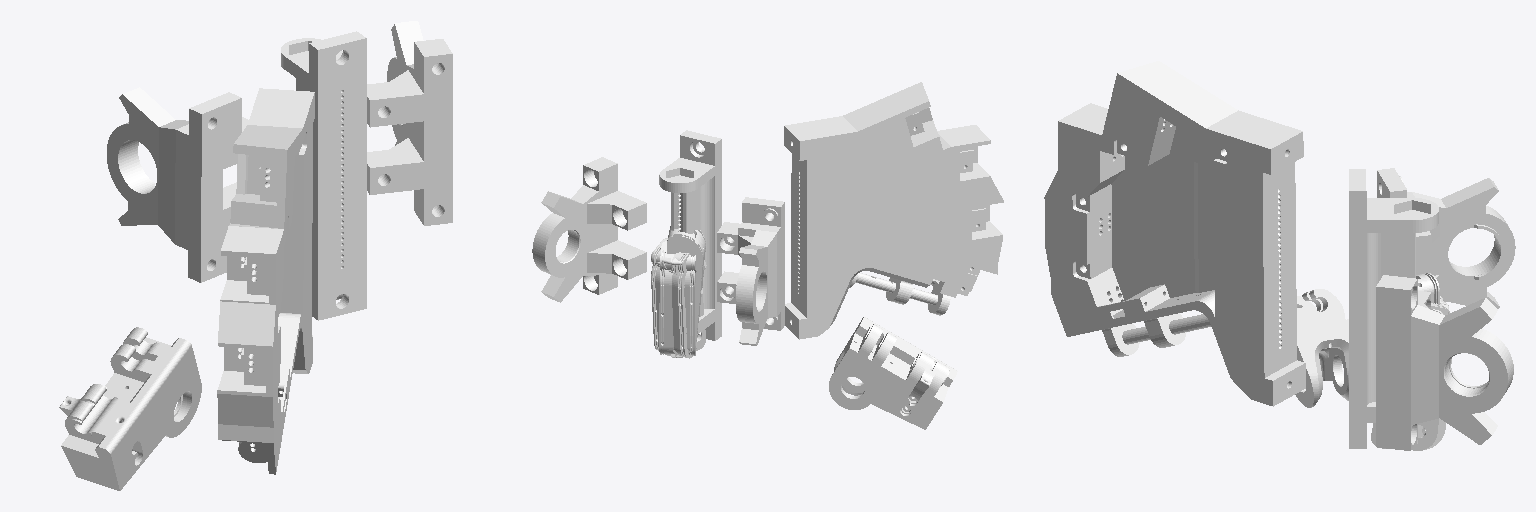
--- What the picture shows (computed from the rendered views, not written in the file) ---
The picture shows the robot from 3 angles, left to right: view 1: azimuth 30°, elevation 25°; view 2: azimuth 150°, elevation 25°; view 3: azimuth 270°, elevation 25°; orthographic projection.
Robot: converted_robot — 99 links, 98 joints (39 revolute, 59 fixed); root link world; default pose: every joint at zero.
Visible links, largest first — view 1: palm, root, thumb_base; view 2: palm, root, thumb_base, index_pp_link, middle_pp_link, thumb_mp; view 3: palm, root, thumb_base.
Boxes of the visible links, x1=… form: palm: x1=217, y1=31, x2=366, y2=474; root: x1=107, y1=21, x2=452, y2=282; thumb_base: x1=59, y1=327, x2=201, y2=490; palm: x1=659, y1=82, x2=1003, y2=340; root: x1=532, y1=157, x2=784, y2=345; thumb_base: x1=829, y1=317, x2=957, y2=429; index_pp_link: x1=659, y1=269, x2=696, y2=357; middle_pp_link: x1=651, y1=266, x2=696, y2=358; thumb_mp: x1=667, y1=226, x2=705, y2=354; palm: x1=1044, y1=61, x2=1438, y2=448; root: x1=1376, y1=168, x2=1515, y2=450; thumb_base: x1=1295, y1=289, x2=1348, y2=407.
Bounding box of the posed robot: 141 × 133 × 111 m (x, y, z).
16 mesh visuals loaded from 14 distinct referenced files (10 binary STL); not drawn: 13 (reference not matched to a file when rendering).

The robot description file, URDF, robot "converted_robot":
<?xml version="1.0" ?>
<robot name="converted_robot">
   <link name="world">
      <inertial>
         <origin xyz="0.0 0.0 0.0" rpy="0.0 0.0 0.0"/>
         <mass value="0.0"/>
         <inertia ixx="0.0" iyy="0.0" izz="0.0" ixy="0" ixz="0" iyz="0"/>
      </inertial>
   </link>
   <link name="root">
      <inertial>
         <origin xyz="0.0022381929403373566 -0.05478397963243803 -0.00015299873054020854" rpy="-1.6682712921179035 -1.5634684420894256 -2.932584540913697"/>
         <mass value="0.5045851090366231"/>
         <inertia ixx="0.001042180022390873" iyy="0.0009363734792854078" izz="0.00030932823926769414" ixy="0" ixz="0" iyz="0"/>
      </inertial>
      <visual name="tower">
         <origin xyz="0.002364865199460947 -0.058011405237253066 -0.00016105648299251585" rpy="-1.6139551293120311 -1.561716121388361 -2.9768437729290564"/>
         <geometry>
            <mesh filename="package://viz/models/biomimic_hand_v3/mesh/Tower_reframed.stl"/>
         </geometry>
         <material name="white"/>
      </visual>
      <visual name="wrist_concept_1">
         <origin xyz="-0.03174380379669124 0.011915712195327334 2.700284945481736e-05" rpy="0.007171625908007462 0.0020408912241414168 0.2470769971928733"/>
         <geometry>
            <mesh filename="package://viz/models/biomimic_hand_v3/mesh/Wrist_concept_actuation_side_reframed.stl"/>
         </geometry>
         <material name="white"/>
      </visual>
      <visual name="wrist_concept_2">
         <origin xyz="0.032245049887780076 0.012156060535640886 1.0565636185675317e-07" rpy="2.043033431406438e-05 4.8627126234546125e-06 -0.2581000401397636"/>
         <geometry>
            <mesh filename="package://viz/models/biomimic_hand_v3/mesh/Wrist_concept_reframed.stl"/>
         </geometry>
         <material name="white"/>
      </visual>
   </link>
   <link name="world2root_fixed_jointbody">
      <inertial>
         <origin xyz="0.0 0.0 0.0" rpy="0.0 0.0 0.0"/>
         <mass value="0.001"/>
         <inertia ixx="1e-09" iyy="1e-09" izz="1e-09" ixy="0" ixz="0" iyz="0"/>
      </inertial>
   </link>
   <joint type="fixed" name="world2root_fixed">
      <parent link="world"/>
      <child link="world2root_fixed_jointbody"/>
      <origin xyz="0.0 0.0 0.0" rpy="0.0 0.0 0.0"/>
   </joint>
   <joint type="fixed" name="world2root_fixed_offset">
      <parent link="world2root_fixed_jointbody"/>
      <child link="root"/>
      <origin xyz="-0.0 -0.0 -0.0" rpy="0.0 0.0 0.0"/>
   </joint>
   <link name="palm">
      <inertial>
         <origin xyz="0.002610045623991939 0.0733741228610985 4.28218316045463e-05" rpy="2.8091086388415176 -1.5658554450899007 -1.17219741236923"/>
         <mass value="0.09616484345900721"/>
         <inertia ixx="0.00011006185476637884" iyy="6.919322101580203e-05" izz="4.3258460744056357e-05" ixy="0" ixz="0" iyz="0"/>
      </inertial>
      <visual name="wrist_counterpart_v2">
         <origin xyz="-0.00023286589265706536 0.03431860304032479 -8.514230674660817e-12" rpy="-3.13718684452829 -1.5707963267948966 0.0"/>
         <geometry>
            <mesh filename="package://viz/models/biomimic_hand_v3/mesh/Wrist_Counterpart_reframed_v2.stl"/>
         </geometry>
         <material name="white"/>
      </visual>
      <visual name="palm_n">
         <origin xyz="0.003298856085237938 0.08283690440192504 5.319715678469291e-05" rpy="-2.414501374296908 -1.5621379725122209 -1.386013583786934"/>
         <geometry>
            <mesh filename="package://viz/models/biomimic_hand_v3/mesh/palm_reframed.stl"/>
         </geometry>
         <material name="white"/>
      </visual>
   </link>
   <link name="root2palm_jointbody">
      <inertial>
         <origin xyz="0.0 0.0 0.0" rpy="0.0 0.0 0.0"/>
         <mass value="0.001"/>
         <inertia ixx="1e-09" iyy="1e-09" izz="1e-09" ixy="0" ixz="0" iyz="0"/>
      </inertial>
   </link>
   <joint type="revolute" name="root2palm">
      <parent link="root"/>
      <child link="root2palm_jointbody"/>
      <origin xyz="0.0 0.026 0.0" rpy="0.0 0.0 0.0"/>
      <axis xyz="1.0 0.0 0.0"/>
      <limit lower="-0.75" upper="0.75" effort="100" velocity="100"/>
   </joint>
   <joint type="fixed" name="root2palm_offset">
      <parent link="root2palm_jointbody"/>
      <child link="palm"/>
      <origin xyz="-0.0 -0.026 -0.0" rpy="0.0 0.0 0.0"/>
   </joint>
   <link name="thumb_base">
      <inertial>
         <origin xyz="-0.03896151638617342 0.08238129367054924 0.0022055098758475555" rpy="-1.4872237942305147 -1.4930754041998728 -2.854555655721934"/>
         <mass value="0.010655348738269323"/>
         <inertia ixx="1.6522325518325598e-06" iyy="1.4630820487504904e-06" izz="6.812925076460425e-07" ixy="0" ixz="0" iyz="0"/>
      </inertial>
      <visual name="thumb_base_n">
         <origin xyz="-0.03896151638617342 0.08238129367054924 0.0022055098758475555" rpy="-1.4872237942305135 -1.4930754041998728 -2.854555655721935"/>
         <geometry>
            <mesh filename="package://viz/models/biomimic_hand_v3/mesh/thumb_base_reframed.stl"/>
         </geometry>
         <material name="white"/>
      </visual>
   </link>
   <link name="root2thumb_base_jointbody">
      <inertial>
         <origin xyz="0.0 0.0 0.0" rpy="0.0 0.0 0.0"/>
         <mass value="0.001"/>
         <inertia ixx="1e-09" iyy="1e-09" izz="1e-09" ixy="0" ixz="0" iyz="0"/>
      </inertial>
   </link>
   <joint type="revolute" name="root2thumb_base">
      <parent link="palm"/>
      <child link="root2thumb_base_jointbody"/>
      <origin xyz="-0.020722 0.066289 0.000509" rpy="0.0 0.0 0.0"/>
      <axis xyz="-0.4226182617388418 0.9063077870375164 0.0"/>
      <limit lower="-3.14" upper="3.14" effort="100" velocity="100"/>
   </joint>
   <joint type="fixed" name="root2thumb_base_offset">
      <parent link="root2thumb_base_jointbody"/>
      <child link="thumb_base"/>
      <origin xyz="0.020722 -0.066289 -0.000509" rpy="0.0 0.0 0.0"/>
   </joint>
   <link name="thumb_pp">
      <inertial>
         <origin xyz="-0.011053892269388146 3.4865384795573415e-05 4.381253094768987e-05" rpy="-2.8886516344078492 -1.5155657546694923 -0.2549822790790299"/>
         <mass value="0.0025689413906266187"/>
         <inertia ixx="1.3413055681871132e-07" iyy="1.285975959688597e-07" izz="5.1445488531337374e-08" ixy="0" ixz="0" iyz="0"/>
      </inertial>
      <visual name="thumb_pp">
         <origin xyz="-0.011053892269388146 3.4865384795573415e-05 4.381253094768987e-05" rpy="-2.8886516344078492 -1.5155657546694923 -0.2549822790790299"/>
         <geometry>
            <mesh filename="package://viz/models/biomimic_hand_v3/mesh/thumb_link2_reframed.stl"/>
         </geometry>
         <material name="white"/>
      </visual>
   </link>
   <link name="thumb_base2pp_jointbody">
      <inertial>
         <origin xyz="0.0 0.0 0.0" rpy="0.0 0.0 0.0"/>
         <mass value="0.001"/>
         <inertia ixx="1e-09" iyy="1e-09" izz="1e-09" ixy="0" ixz="0" iyz="0"/>
      </inertial>
   </link>
   <joint type="revolute" name="thumb_base2pp">
      <parent link="thumb_base"/>
      <child link="thumb_base2pp_jointbody"/>
      <origin xyz="-0.042892 0.068639 0.000509" rpy="0.0 0.0 0.43633200000000005"/>
      <axis xyz="0.0 0.0 1.0"/>
      <limit lower="-0.785398" upper="0.785398" effort="100" velocity="100"/>
   </joint>
   <joint type="fixed" name="thumb_base2pp_offset">
      <parent link="thumb_base2pp_jointbody"/>
      <child link="thumb_pp"/>
      <origin xyz="-0.0 -0.0 -0.0" rpy="0.0 0.0 0.0"/>
   </joint>
   <link name="thumb_mp_virt">
      <inertial>
         <origin xyz="0.0 0.0 0.0" rpy="0.0 0.0 0.0"/>
         <mass value="0.001"/>
         <inertia ixx="4e-10" iyy="4e-10" izz="3e-10" ixy="0" ixz="0" iyz="0"/>
      </inertial>
   </link>
   <link name="thumb_pp2mp_virt_jointbody">
      <inertial>
         <origin xyz="0.0 0.0 0.0" rpy="0.0 0.0 0.0"/>
         <mass value="0.001"/>
         <inertia ixx="1e-09" iyy="1e-09" izz="1e-09" ixy="0" ixz="0" iyz="0"/>
      </inertial>
   </link>
   <joint type="revolute" name="thumb_pp2mp_virt">
      <parent link="thumb_pp"/>
      <child link="thumb_pp2mp_virt_jointbody"/>
      <origin xyz="-0.013 0.0 0.0025" rpy="0.0 0.0 0.0"/>
      <axis xyz="0.0 1.0 0.0"/>
      <limit lower="-3.14" upper="3.14" effort="100" velocity="100"/>
   </joint>
   <joint type="fixed" name="thumb_pp2mp_virt_offset">
      <parent link="thumb_pp2mp_virt_jointbody"/>
      <child link="thumb_mp_virt"/>
      <origin xyz="0.013 -0.0 -0.0025" rpy="0.0 0.0 0.0"/>
   </joint>
   <link name="thumb_mp">
      <inertial>
         <origin xyz="-0.014116018388780974 3.307865455442922e-05 -0.0013385556113386947" rpy="-2.97590650134968 -1.521351344482512 -0.1663615440956121"/>
         <mass value="0.005903648686389138"/>
         <inertia ixx="1.0313996389907128e-06" iyy="1.0081447768950292e-06" izz="1.3600777501334462e-07" ixy="0" ixz="0" iyz="0"/>
      </inertial>
      <visual name="thumb_mp">
         <origin xyz="-0.014116018388780974 3.307865455442922e-05 -0.0013385556113386947" rpy="-2.97590650134968 -1.521351344482512 -0.1663615440956121"/>
         <geometry>
            <mesh filename="package://viz/models/biomimic_hand_v3/mesh/thumb_link_3_reframed.stl"/>
         </geometry>
         <material name="white"/>
      </visual>
   </link>
   <link name="thumb_pp2mp_jointbody">
      <inertial>
         <origin xyz="0.0 0.0 0.0" rpy="0.0 0.0 0.0"/>
         <mass value="0.001"/>
         <inertia ixx="1e-09" iyy="1e-09" izz="1e-09" ixy="0" ixz="0" iyz="0"/>
      </inertial>
   </link>
   <joint type="revolute" name="thumb_pp2mp">
      <parent link="thumb_mp_virt"/>
      <child link="thumb_pp2mp_jointbody"/>
      <origin xyz="-0.031 0.0 0.0025" rpy="0.0 0.0 0.0"/>
      <axis xyz="0.0 1.0 0.0"/>
      <limit lower="-3.14" upper="3.14" effort="100" velocity="100"/>
   </joint>
   <joint type="fixed" name="thumb_pp2mp_offset">
      <parent link="thumb_pp2mp_jointbody"/>
      <child link="thumb_mp"/>
      <origin xyz="-0.0 -0.0 -0.0" rpy="0.0 0.0 0.0"/>
   </joint>
   <link name="thumb_dp_virt">
      <inertial>
         <origin xyz="0.0 0.0 0.0" rpy="0.0 0.0 0.0"/>
         <mass value="0.001"/>
         <inertia ixx="4e-10" iyy="4e-10" izz="3e-10" ixy="0" ixz="0" iyz="0"/>
      </inertial>
   </link>
   <link name="thumb_mp2dp_virt_jointbody">
      <inertial>
         <origin xyz="0.0 0.0 0.0" rpy="0.0 0.0 0.0"/>
         <mass value="0.001"/>
         <inertia ixx="1e-09" iyy="1e-09" izz="1e-09" ixy="0" ixz="0" iyz="0"/>
      </inertial>
   </link>
   <joint type="revolute" name="thumb_mp2dp_virt">
      <parent link="thumb_mp"/>
      <child link="thumb_mp2dp_virt_jointbody"/>
      <origin xyz="-0.031 0.0 0.00225" rpy="0.0 0.0 0.0"/>
      <axis xyz="0.0 -1.0 0.0"/>
      <limit lower="-3.14" upper="3.14" effort="100" velocity="100"/>
   </joint>
   <joint type="fixed" name="thumb_mp2dp_virt_offset">
      <parent link="thumb_mp2dp_virt_jointbody"/>
      <child link="thumb_dp_virt"/>
      <origin xyz="0.031 -0.0 -0.00225" rpy="0.0 0.0 0.0"/>
   </joint>
   <link name="thumb_dp">
      <inertial>
         <origin xyz="0.002640041313834239 -8.033957342976116e-06 0.0037021472303460264" rpy="1.5640958002148797 -1.2122408048608502 0.002963949632654672"/>
         <mass value="0.0008474418579601583"/>
         <inertia ixx="1.9750329826804736e-08" iyy="1.5387806605358783e-08" izz="1.228301033689625e-08" ixy="0" ixz="0" iyz="0"/>
      </inertial>
      <visual name="thumb_tip">
         <origin xyz="0.002640041313834239 -8.033957342976116e-06 0.0037021472303460264" rpy="1.5640958002148793 -1.2122408048608502 0.002963949632654894"/>
         <geometry>
            <mesh filename="package://viz/models/biomimic_hand_v3/mesh/thumb_tip.stl"/>
         </geometry>
         <material name="white"/>
      </visual>
   </link>
   <link name="thumb_mp2dp_jointbody">
      <inertial>
         <origin xyz="0.0 0.0 0.0" rpy="0.0 0.0 0.0"/>
         <mass value="0.001"/>
         <inertia ixx="1e-09" iyy="1e-09" izz="1e-09" ixy="0" ixz="0" iyz="0"/>
      </inertial>
   </link>
   <joint type="revolute" name="thumb_mp2dp">
      <parent link="thumb_dp_virt"/>
      <child link="thumb_mp2dp_jointbody"/>
      <origin xyz="-0.04649999998923062 0.0 0.001499999983845931" rpy="3.141592653589793 3.589793129421537e-09 3.141592653589793"/>
      <axis xyz="0.0 -1.0 0.0"/>
      <limit lower="-3.14" upper="3.14" effort="100" velocity="100"/>
   </joint>
   <joint type="fixed" name="thumb_mp2dp_offset">
      <parent link="thumb_mp2dp_jointbody"/>
      <child link="thumb_dp"/>
      <origin xyz="-0.0045 -0.0 -0.003" rpy="0.0 0.0 0.0"/>
   </joint>
   <link name="thumb_fingertip">
      <inertial>
         <origin xyz="0.0 0.0 0.01" rpy="0.0 0.0 0.0"/>
         <mass value="0.0"/>
         <inertia ixx="0.0" iyy="0.0" izz="0.0" ixy="0" ixz="0" iyz="0"/>
      </inertial>
   </link>
   <link name="thumb_dp2thumb_fingertip_fixed_jointbody">
      <inertial>
         <origin xyz="0.0 0.0 0.0" rpy="0.0 0.0 0.0"/>
         <mass value="0.001"/>
         <inertia ixx="1e-09" iyy="1e-09" izz="1e-09" ixy="0" ixz="0" iyz="0"/>
      </inertial>
   </link>
   <joint type="fixed" name="thumb_dp2thumb_fingertip_fixed">
      <parent link="thumb_dp"/>
      <child link="thumb_dp2thumb_fingertip_fixed_jointbody"/>
      <origin xyz="0.0 0.0 0.01" rpy="0.0 0.0 0.0"/>
   </joint>
   <joint type="fixed" name="thumb_dp2thumb_fingertip_fixed_offset">
      <parent link="thumb_dp2thumb_fingertip_fixed_jointbody"/>
      <child link="thumb_fingertip"/>
      <origin xyz="-0.0 -0.0 -0.0" rpy="0.0 0.0 0.0"/>
   </joint>
   <link name="index_base">
      <inertial>
         <origin xyz="-2.483271134301712e-06 -0.0006283949403360648 -0.0010218251722954041" rpy="-0.0019606141972857705 0.2848020899002486 1.562843097727972"/>
         <mass value="0.0024272487650793505"/>
         <inertia ixx="1.0995418991633523e-07" iyy="1.0493548698909454e-07" izz="5.695079330067392e-08" ixy="0" ixz="0" iyz="0"/>
      </inertial>
      <visual name="base">
         <origin xyz="-2.483271134301712e-06 -0.0006283949403360648 -0.0010218251722954041" rpy="-0.0019606141972857705 0.2848020899002486 1.562843097727972"/>
         <geometry>
            <mesh filename="package://viz/models/biomimic_hand_v3/mesh/experimental_finger_base_link.stl"/>
         </geometry>
         <material name="white"/>
      </visual>
   </link>
   <link name="palm2index_base_fixed_jointbody">
      <inertial>
         <origin xyz="0.0 0.0 0.0" rpy="0.0 0.0 0.0"/>
         <mass value="0.001"/>
         <inertia ixx="1e-09" iyy="1e-09" izz="1e-09" ixy="0" ixz="0" iyz="0"/>
      </inertial>
   </link>
   <joint type="fixed" name="palm2index_base_fixed">
      <parent link="palm"/>
      <child link="palm2index_base_fixed_jointbody"/>
      <origin xyz="-0.033665 0.121145 -0.001" rpy="1.570799655849771 -1.5517727203206988e-06 -2.705260653592375"/>
   </joint>
   <joint type="fixed" name="palm2index_base_fixed_offset">
      <parent link="palm2index_base_fixed_jointbody"/>
      <child link="index_base"/>
      <origin xyz="-0.0 -0.0 -0.0" rpy="0.0 0.0 0.0"/>
   </joint>
   <link name="index_abduct_link_virt">
      <inertial>
         <origin xyz="0.0 0.0 0.0" rpy="0.0 0.0 0.0"/>
         <mass value="0.001"/>
         <inertia ixx="4e-10" iyy="4e-10" izz="3e-10" ixy="0" ixz="0" iyz="0"/>
      </inertial>
   </link>
   <link name="index_base2adb_virt_jointbody">
      <inertial>
         <origin xyz="0.0 0.0 0.0" rpy="0.0 0.0 0.0"/>
         <mass value="0.001"/>
         <inertia ixx="1e-09" iyy="1e-09" izz="1e-09" ixy="0" ixz="0" iyz="0"/>
      </inertial>
   </link>
   <joint type="revolute" name="index_base2adb_virt">
      <parent link="index_base"/>
      <child link="index_base2adb_virt_jointbody"/>
      <origin xyz="0.0 0.0 0.0" rpy="0.0 0.0 0.0"/>
      <axis xyz="0.0 1.0 0.0"/>
      <limit lower="-3.14" upper="3.14" effort="100" velocity="100"/>
   </joint>
   <joint type="fixed" name="index_base2adb_virt_offset">
      <parent link="index_base2adb_virt_jointbody"/>
      <child link="index_abduct_link_virt"/>
      <origin xyz="-0.0 -0.0 -0.0" rpy="0.0 0.0 0.0"/>
   </joint>
   <link name="index_abduct_link">
      <inertial>
         <origin xyz="0.0030928024469548897 2.9633251576924873e-06 0.002049002293166934" rpy="0.0013444771177570697 -0.39052181680792253 -0.0006183615336743567"/>
         <mass value="0.0013669173022782843"/>
         <inertia ixx="3.537790755823662e-08" iyy="2.974765209083845e-08" izz="2.786437561868119e-08" ixy="0" ixz="0" iyz="0"/>
      </inertial>
      <visual name="abduct_mesh">
         <origin xyz="0.0030928024469548897 2.9633251576924873e-06 0.002049002293166934" rpy="0.0013444771177570697 -0.39052181680792253 -0.0006183615336743567"/>
         <geometry>
            <mesh filename="package://viz/models/biomimic_hand_v3/mesh/experimental_finger_link_2.stl"/>
         </geometry>
         <material name="white"/>
      </visual>
   </link>
   <link name="index_base2adb_jointbody">
      <inertial>
         <origin xyz="0.0 0.0 0.0" rpy="0.0 0.0 0.0"/>
         <mass value="0.001"/>
         <inertia ixx="1e-09" iyy="1e-09" izz="1e-09" ixy="0" ixz="0" iyz="0"/>
      </inertial>
   </link>
   <joint type="revolute" name="index_base2adb">
      <parent link="index_abduct_link_virt"/>
      <child link="index_base2adb_jointbody"/>
      <origin xyz="0.0 0.002498 0.011162" rpy="1.5707963267948966 -1.5707963267948966 0.0"/>
      <axis xyz="0.0 0.0 -1.0"/>
      <limit lower="-3.14" upper="3.14" effort="100" velocity="100"/>
   </joint>
   <joint type="fixed" name="index_base2adb_offset">
      <parent link="index_base2adb_jointbody"/>
      <child link="index_abduct_link"/>
      <origin xyz="-0.0 -0.0 -0.0" rpy="0.0 0.0 0.0"/>
   </joint>
   <link name="index_pp_link_virt">
      <inertial>
         <origin xyz="0.0 0.0 0.0" rpy="0.0 0.0 0.0"/>
         <mass value="0.001"/>
         <inertia ixx="4e-10" iyy="4e-10" izz="3e-10" ixy="0" ixz="0" iyz="0"/>
      </inertial>
   </link>
   <link name="index_adb2pp_virt_jointbody">
      <inertial>
         <origin xyz="0.0 0.0 0.0" rpy="0.0 0.0 0.0"/>
         <mass value="0.001"/>
         <inertia ixx="1e-09" iyy="1e-09" izz="1e-09" ixy="0" ixz="0" iyz="0"/>
      </inertial>
   </link>
   <joint type="revolute" name="index_adb2pp_virt">
      <parent link="index_abduct_link"/>
      <child link="index_adb2pp_virt_jointbody"/>
      <origin xyz="0.0 0.0 0.0" rpy="0.0 0.0 0.0"/>
      <axis xyz="0.0 -1.0 0.0"/>
      <limit lower="-3.14" upper="3.14" effort="100" velocity="100"/>
   </joint>
   <joint type="fixed" name="index_adb2pp_virt_offset">
      <parent link="index_adb2pp_virt_jointbody"/>
      <child link="index_pp_link_virt"/>
      <origin xyz="-0.0 -0.0 -0.0" rpy="0.0 0.0 0.0"/>
   </joint>
   <link name="index_pp_link">
      <inertial>
         <origin xyz="0.019800803261190037 3.0271736921860792e-05 0.0013379390944332293" rpy="2.931599678921431 -1.5138014223874179 0.21266149093854647"/>
         <mass value="0.0050068184060231636"/>
         <inertia ixx="6.345658861803472e-07" iyy="6.154227946796361e-07" izz="1.1409550443849059e-07" ixy="0" ixz="0" iyz="0"/>
      </inertial>
      <visual name="pp_mesh">
         <origin xyz="0.019800803261190037 3.0271736921860792e-05 0.0013379390944332293" rpy="2.9315996789214296 -1.513801422387418 0.21266149093854758"/>
         <geometry>
            <mesh filename="package://viz/models/biomimic_hand_v3/mesh/experimental_finger_pp_link.stl"/>
         </geometry>
         <material name="white"/>
      </visual>
   </link>
   <link name="index_adb2pp_jointbody">
      <inertial>
         <origin xyz="0.0 0.0 0.0" rpy="0.0 0.0 0.0"/>
         <mass value="0.001"/>
         <inertia ixx="1e-09" iyy="1e-09" izz="1e-09" ixy="0" ixz="0" iyz="0"/>
      </inertial>
   </link>
   <joint type="revolute" name="index_adb2pp">
      <parent link="index_pp_link_virt"/>
      <child link="index_adb2pp_jointbody"/>
      <origin xyz="0.008988 0.0 0.0" rpy="0.0 0.0 0.0"/>
      <axis xyz="0.0 -1.0 0.0"/>
      <limit lower="-3.14" upper="3.14" effort="100" velocity="100"/>
   </joint>
   <joint type="fixed" name="index_adb2pp_offset">
      <parent link="index_adb2pp_jointbody"/>
      <child link="index_pp_link"/>
      <origin xyz="-0.0 -0.0 -0.0" rpy="0.0 0.0 0.0"/>
   </joint>
   <link name="index_mp_link_virt">
      <inertial>
         <origin xyz="0.0 0.0 0.0" rpy="0.0 0.0 0.0"/>
         <mass value="0.001"/>
         <inertia ixx="4e-10" iyy="4e-10" izz="3e-10" ixy="0" ixz="0" iyz="0"/>
      </inertial>
   </link>
   <link name="index_pp2mp_virt_jointbody">
      <inertial>
         <origin xyz="0.0 0.0 0.0" rpy="0.0 0.0 0.0"/>
         <mass value="0.001"/>
         <inertia ixx="1e-09" iyy="1e-09" izz="1e-09" ixy="0" ixz="0" iyz="0"/>
      </inertial>
   </link>
   <joint type="revolute" name="index_pp2mp_virt">
      <parent link="index_pp_link"/>
      <child link="index_pp2mp_virt_jointbody"/>
      <origin xyz="0.035 0.0 -0.0016" rpy="0.0 0.0 0.0"/>
      <axis xyz="0.0 -1.0 0.0"/>
      <limit lower="-3.14" upper="3.14" effort="100" velocity="100"/>
   </joint>
   <joint type="fixed" name="index_pp2mp_virt_offset">
      <parent link="index_pp2mp_virt_jointbody"/>
      <child link="index_mp_link_virt"/>
      <origin xyz="-0.035 -0.0 0.0016" rpy="0.0 0.0 0.0"/>
   </joint>
   <link name="index_mp_link">
      <inertial>
         <origin xyz="0.013539877442174646 6.836820127480553e-06 0.00034399519877882553" rpy="-3.0138281282533645 -1.544321997651543 -0.12981250347759032"/>
         <mass value="0.0023988918533060766"/>
         <inertia ixx="1.5737888843947075e-07" iyy="1.3688213582052e-07" izz="4.535302154977501e-08" ixy="0" ixz="0" iyz="0"/>
      </inertial>
      <visual name="mp_mesh">
         <origin xyz="0.013539877442174646 6.836820127480553e-06 0.00034399519877882553" rpy="-3.0138281282533645 -1.544321997651543 -0.12981250347759032"/>
         <geometry>
            <mesh filename="package://viz/models/biomimic_hand_v3/mesh/experimental_finger_mp_link.stl"/>
         </geometry>
         <material name="white"/>
      </visual>
   </link>
   <link name="index_pp2mp_jointbody">
      <inertial>
         <origin xyz="0.0 0.0 0.0" rpy="0.0 0.0 0.0"/>
         <mass value="0.001"/>
         <inertia ixx="1e-09" iyy="1e-09" izz="1e-09" ixy="0" ixz="0" iyz="0"/>
      </inertial>
   </link>
   <joint type="revolute" name="index_pp2mp">
      <parent link="index_mp_link_virt"/>
      <child link="index_pp2mp_jointbody"/>
      <origin xyz="0.047 0.0 -0.0004" rpy="0.0 0.0 0.0"/>
      <axis xyz="0.0 -1.0 0.0"/>
      <limit lower="-3.14" upper="3.14" effort="100" velocity="100"/>
   </joint>
   <joint type="fixed" name="index_pp2mp_offset">
      <parent link="index_pp2mp_jointbody"/>
      <child link="index_mp_link"/>
      <origin xyz="-0.006 -0.0 -0.0" rpy="0.0 0.0 0.0"/>
   </joint>
   <link name="index_dp_adapter_virt">
      <inertial>
         <origin xyz="0.0 0.0 0.0" rpy="0.0 0.0 0.0"/>
         <mass value="0.001"/>
         <inertia ixx="4e-10" iyy="4e-10" izz="3e-10" ixy="0" ixz="0" iyz="0"/>
      </inertial>
   </link>
   <link name="index_mp2dp_virt_jointbody">
      <inertial>
         <origin xyz="0.0 0.0 0.0" rpy="0.0 0.0 0.0"/>
         <mass value="0.001"/>
         <inertia ixx="1e-09" iyy="1e-09" izz="1e-09" ixy="0" ixz="0" iyz="0"/>
      </inertial>
   </link>
   <joint type="revolute" name="index_mp2dp_virt">
      <parent link="index_mp_link"/>
      <child link="index_mp2dp_virt_jointbody"/>
      <origin xyz="0.023 0.0 -0.0008" rpy="0.0 0.0 0.0"/>
      <axis xyz="0.0 -1.0 0.0"/>
      <limit lower="-3.14" upper="3.14" effort="100" velocity="100"/>
   </joint>
   <joint type="fixed" name="index_mp2dp_virt_offset">
      <parent link="index_mp2dp_virt_jointbody"/>
      <child link="index_dp_adapter_virt"/>
      <origin xyz="-0.023 -0.0 0.0008" rpy="0.0 0.0 0.0"/>
   </joint>
   <link name="index_dp_adapter">
      <inertial>
         <origin xyz="0.005351633379461637 5.496078872092513e-06 0.00015893796923586228" rpy="1.5736715159439456 -1.2942765355492698 -0.004465164146717049"/>
         <mass value="0.0006939412579896854"/>
         <inertia ixx="1.5572245841345185e-08" iyy="1.1457796740024819e-08" izz="8.572467342913239e-09" ixy="0" ixz="0" iyz="0"/>
      </inertial>
      <visual name="dp_adapter_mesh">
         <origin xyz="0.005351633379461637 5.496078872092513e-06 0.00015893796923586228" rpy="1.573671515943945 -1.2942765355492696 -0.004465164146716716"/>
         <geometry>
            <mesh filename="package://viz/models/biomimic_hand_v3/mesh/experimental_finger_dp_adapter.stl"/>
         </geometry>
         <material name="white"/>
      </visual>
   </link>
   <link name="index_mp2dp_jointbody">
      <inertial>
         <origin xyz="0.0 0.0 0.0" rpy="0.0 0.0 0.0"/>
         <mass value="0.001"/>
         <inertia ixx="1e-09" iyy="1e-09" izz="1e-09" ixy="0" ixz="0" iyz="0"/>
      </inertial>
   </link>
   <joint type="revolute" name="index_mp2dp">
      <parent link="index_dp_adapter_virt"/>
      <child link="index_mp2dp_jointbody"/>
      <origin xyz="0.032 0.0 -0.0004" rpy="0.0 0.0 0.0"/>
      <axis xyz="0.0 -1.0 0.0"/>
      <limit lower="-3.14" upper="3.14" effort="100" velocity="100"/>
   </joint>
   <joint type="fixed" name="index_mp2dp_offset">
      <parent link="index_mp2dp_jointbody"/>
      <child link="index_dp_adapter"/>
      <origin xyz="-0.0045 -0.0 -0.0" rpy="0.0 0.0 0.0"/>
   </joint>
   <link name="index_fingertip">
      <inertial>
         <origin xyz="0.0 0.0 0.01" rpy="0.0 0.0 0.0"/>
         <mass value="0.0"/>
         <inertia ixx="0.0" iyy="0.0" izz="0.0" ixy="0" ixz="0" iyz="0"/>
      </inertial>
   </link>
   <link name="index_dp_adapter2index_fingertip_fixed_jointbody">
      <inertial>
         <origin xyz="0.0 0.0 0.0" rpy="0.0 0.0 0.0"/>
         <mass value="0.001"/>
         <inertia ixx="1e-09" iyy="1e-09" izz="1e-09" ixy="0" ixz="0" iyz="0"/>
      </inertial>
   </link>
   <joint type="fixed" name="index_dp_adapter2index_fingertip_fixed">
      <parent link="index_dp_adapter"/>
      <child link="index_dp_adapter2index_fingertip_fixed_jointbody"/>
      <origin xyz="0.0 0.0 0.01" rpy="0.0 0.0 0.0"/>
   </joint>
   <joint type="fixed" name="index_dp_adapter2index_fingertip_fixed_offset">
      <parent link="index_dp_adapter2index_fingertip_fixed_jointbody"/>
      <child link="index_fingertip"/>
      <origin xyz="-0.0 -0.0 -0.0" rpy="0.0 0.0 0.0"/>
   </joint>
   <link name="middle_base">
      <inertial>
         <origin xyz="-2.483271134301712e-06 -0.0006283949403360648 -0.0010218251722954041" rpy="-0.0019606141972857705 0.2848020899002486 1.562843097727972"/>
         <mass value="0.0024272487650793505"/>
         <inertia ixx="1.0995418991633523e-07" iyy="1.0493548698909454e-07" izz="5.695079330067392e-08" ixy="0" ixz="0" iyz="0"/>
      </inertial>
      <visual name="base">
         <origin xyz="-2.483271134301712e-06 -0.0006283949403360648 -0.0010218251722954041" rpy="-0.0019606141972857705 0.2848020899002486 1.562843097727972"/>
         <geometry>
            <mesh filename="package://viz/models/biomimic_hand_v3/mesh/experimental_finger_base_link.stl"/>
         </geometry>
         <material name="white"/>
      </visual>
   </link>
   <link name="palm2middle_base_fixed_jointbody">
      <inertial>
         <origin xyz="0.0 0.0 0.0" rpy="0.0 0.0 0.0"/>
         <mass value="0.001"/>
         <inertia ixx="1e-09" iyy="1e-09" izz="1e-09" ixy="0" ixz="0" iyz="0"/>
      </inertial>
   </link>
   <joint type="fixed" name="palm2middle_base_fixed">
      <parent link="palm"/>
      <child link="palm2middle_base_fixed_jointbody"/>
      <origin xyz="-0.005 0.1261 -0.001" rpy="1.5707999999999998 5.897931032450288e-10 -3.141592653589791"/>
   </joint>
   <joint type="fixed" name="palm2middle_base_fixed_offset">
      <parent link="palm2middle_base_fixed_jointbody"/>
      <child link="middle_base"/>
      <origin xyz="-0.0 -0.0 -0.0" rpy="0.0 0.0 0.0"/>
   </joint>
   <link name="middle_abduct_link_virt">
      <inertial>
         <origin xyz="0.0 0.0 0.0" rpy="0.0 0.0 0.0"/>
         <mass value="0.001"/>
         <inertia ixx="4e-10" iyy="4e-10" izz="3e-10" ixy="0" ixz="0" iyz="0"/>
      </inertial>
   </link>
   <link name="middle_base2adb_virt_jointbody">
      <inertial>
         <origin xyz="0.0 0.0 0.0" rpy="0.0 0.0 0.0"/>
         <mass value="0.001"/>
         <inertia ixx="1e-09" iyy="1e-09" izz="1e-09" ixy="0" ixz="0" iyz="0"/>
      </inertial>
   </link>
   <joint type="revolute" name="middle_base2adb_virt">
      <parent link="middle_base"/>
      <child link="middle_base2adb_virt_jointbody"/>
      <origin xyz="0.0 0.0 0.0" rpy="0.0 0.0 0.0"/>
      <axis xyz="0.0 1.0 0.0"/>
      <limit lower="-3.14" upper="3.14" effort="100" velocity="100"/>
   </joint>
   <joint type="fixed" name="middle_base2adb_virt_offset">
      <parent link="middle_base2adb_virt_jointbody"/>
      <child link="middle_abduct_link_virt"/>
      <origin xyz="-0.0 -0.0 -0.0" rpy="0.0 0.0 0.0"/>
   </joint>
   <link name="middle_abduct_link">
      <inertial>
         <origin xyz="0.0030928024469548897 2.9633251576924873e-06 0.002049002293166934" rpy="0.0013444771177570697 -0.39052181680792253 -0.0006183615336743567"/>
         <mass value="0.0013669173022782843"/>
         <inertia ixx="3.537790755823662e-08" iyy="2.974765209083845e-08" izz="2.786437561868119e-08" ixy="0" ixz="0" iyz="0"/>
      </inertial>
      <visual name="abduct_mesh">
         <origin xyz="0.0030928024469548897 2.9633251576924873e-06 0.002049002293166934" rpy="0.0013444771177570697 -0.39052181680792253 -0.0006183615336743567"/>
         <geometry>
            <mesh filename="package://viz/models/biomimic_hand_v3/mesh/experimental_finger_link_2.stl"/>
         </geometry>
         <material name="white"/>
      </visual>
   </link>
   <link name="middle_base2adb_jointbody">
      <inertial>
         <origin xyz="0.0 0.0 0.0" rpy="0.0 0.0 0.0"/>
         <mass value="0.001"/>
         <inertia ixx="1e-09" iyy="1e-09" izz="1e-09" ixy="0" ixz="0" iyz="0"/>
      </inertial>
   </link>
   <joint type="revolute" name="middle_base2adb">
      <parent link="middle_abduct_link_virt"/>
      <child link="middle_base2adb_jointbody"/>
      <origin xyz="0.0 0.002498 0.011162" rpy="1.5707963267948966 -1.5707963267948966 0.0"/>
      <axis xyz="0.0 0.0 -1.0"/>
      <limit lower="-3.14" upper="3.14" effort="100" velocity="100"/>
   </joint>
   <joint type="fixed" name="middle_base2adb_offset">
      <parent link="middle_base2adb_jointbody"/>
      <child link="middle_abduct_link"/>
      <origin xyz="-0.0 -0.0 -0.0" rpy="0.0 0.0 0.0"/>
   </joint>
   <link name="middle_pp_link_virt">
      <inertial>
         <origin xyz="0.0 0.0 0.0" rpy="0.0 0.0 0.0"/>
         <mass value="0.001"/>
         <inertia ixx="4e-10" iyy="4e-10" izz="3e-10" ixy="0" ixz="0" iyz="0"/>
      </inertial>
   </link>
   <link name="middle_adb2pp_virt_jointbody">
      <inertial>
         <origin xyz="0.0 0.0 0.0" rpy="0.0 0.0 0.0"/>
         <mass value="0.001"/>
         <inertia ixx="1e-09" iyy="1e-09" izz="1e-09" ixy="0" ixz="0" iyz="0"/>
      </inertial>
   </link>
   <joint type="revolute" name="middle_adb2pp_virt">
      <parent link="middle_abduct_link"/>
      <child link="middle_adb2pp_virt_jointbody"/>
      <origin xyz="0.0 0.0 0.0" rpy="0.0 0.0 0.0"/>
      <axis xyz="0.0 -1.0 0.0"/>
      <limit lower="-3.14" upper="3.14" effort="100" velocity="100"/>
   </joint>
   <joint type="fixed" name="middle_adb2pp_virt_offset">
      <parent link="middle_adb2pp_virt_jointbody"/>
      <child link="middle_pp_link_virt"/>
      <origin xyz="-0.0 -0.0 -0.0" rpy="0.0 0.0 0.0"/>
   </joint>
   <link name="middle_pp_link">
      <inertial>
         <origin xyz="0.019800803261190037 3.0271736921860792e-05 0.0013379390944332293" rpy="2.931599678921431 -1.5138014223874179 0.21266149093854647"/>
         <mass value="0.0050068184060231636"/>
         <inertia ixx="6.345658861803472e-07" iyy="6.154227946796361e-07" izz="1.1409550443849059e-07" ixy="0" ixz="0" iyz="0"/>
      </inertial>
      <visual name="pp_mesh">
         <origin xyz="0.019800803261190037 3.0271736921860792e-05 0.0013379390944332293" rpy="2.9315996789214296 -1.513801422387418 0.21266149093854758"/>
         <geometry>
            <mesh filename="package://viz/models/biomimic_hand_v3/mesh/experimental_finger_pp_link.stl"/>
         </geometry>
         <material name="white"/>
      </visual>
   </link>
   <link name="middle_adb2pp_jointbody">
      <inertial>
         <origin xyz="0.0 0.0 0.0" rpy="0.0 0.0 0.0"/>
         <mass value="0.001"/>
         <inertia ixx="1e-09" iyy="1e-09" izz="1e-09" ixy="0" ixz="0" iyz="0"/>
      </inertial>
   </link>
   <joint type="revolute" name="middle_adb2pp">
      <parent link="middle_pp_link_virt"/>
      <child link="middle_adb2pp_jointbody"/>
      <origin xyz="0.008988 0.0 0.0" rpy="0.0 0.0 0.0"/>
      <axis xyz="0.0 -1.0 0.0"/>
      <limit lower="-3.14" upper="3.14" effort="100" velocity="100"/>
   </joint>
   <joint type="fixed" name="middle_adb2pp_offset">
      <parent link="middle_adb2pp_jointbody"/>
      <child link="middle_pp_link"/>
      <origin xyz="-0.0 -0.0 -0.0" rpy="0.0 0.0 0.0"/>
   </joint>
   <link name="middle_mp_link_virt">
      <inertial>
         <origin xyz="0.0 0.0 0.0" rpy="0.0 0.0 0.0"/>
         <mass value="0.001"/>
         <inertia ixx="4e-10" iyy="4e-10" izz="3e-10" ixy="0" ixz="0" iyz="0"/>
      </inertial>
   </link>
   <link name="middle_pp2mp_virt_jointbody">
      <inertial>
         <origin xyz="0.0 0.0 0.0" rpy="0.0 0.0 0.0"/>
         <mass value="0.001"/>
         <inertia ixx="1e-09" iyy="1e-09" izz="1e-09" ixy="0" ixz="0" iyz="0"/>
      </inertial>
   </link>
   <joint type="revolute" name="middle_pp2mp_virt">
      <parent link="middle_pp_link"/>
      <child link="middle_pp2mp_virt_jointbody"/>
      <origin xyz="0.035 0.0 -0.0016" rpy="0.0 0.0 0.0"/>
      <axis xyz="0.0 -1.0 0.0"/>
      <limit lower="-3.14" upper="3.14" effort="100" velocity="100"/>
   </joint>
   <joint type="fixed" name="middle_pp2mp_virt_offset">
      <parent link="middle_pp2mp_virt_jointbody"/>
      <child link="middle_mp_link_virt"/>
      <origin xyz="-0.035 -0.0 0.0016" rpy="0.0 0.0 0.0"/>
   </joint>
   <link name="middle_mp_link">
      <inertial>
         <origin xyz="0.013539877442174646 6.836820127480553e-06 0.00034399519877882553" rpy="-3.0138281282533645 -1.544321997651543 -0.12981250347759032"/>
         <mass value="0.0023988918533060766"/>
         <inertia ixx="1.5737888843947075e-07" iyy="1.3688213582052e-07" izz="4.535302154977501e-08" ixy="0" ixz="0" iyz="0"/>
      </inertial>
      <visual name="mp_mesh">
         <origin xyz="0.013539877442174646 6.836820127480553e-06 0.00034399519877882553" rpy="-3.0138281282533645 -1.544321997651543 -0.12981250347759032"/>
         <geometry>
            <mesh filename="package://viz/models/biomimic_hand_v3/mesh/experimental_finger_mp_link.stl"/>
         </geometry>
         <material name="white"/>
      </visual>
   </link>
   <link name="middle_pp2mp_jointbody">
      <inertial>
         <origin xyz="0.0 0.0 0.0" rpy="0.0 0.0 0.0"/>
         <mass value="0.001"/>
         <inertia ixx="1e-09" iyy="1e-09" izz="1e-09" ixy="0" ixz="0" iyz="0"/>
      </inertial>
   </link>
   <joint type="revolute" name="middle_pp2mp">
      <parent link="middle_mp_link_virt"/>
      <child link="middle_pp2mp_jointbody"/>
      <origin xyz="0.047 0.0 -0.0004" rpy="0.0 0.0 0.0"/>
      <axis xyz="0.0 -1.0 0.0"/>
      <limit lower="-3.14" upper="3.14" effort="100" velocity="100"/>
   </joint>
   <joint type="fixed" name="middle_pp2mp_offset">
      <parent link="middle_pp2mp_jointbody"/>
      <child link="middle_mp_link"/>
      <origin xyz="-0.006 -0.0 -0.0" rpy="0.0 0.0 0.0"/>
   </joint>
   <link name="middle_dp_adapter_virt">
      <inertial>
         <origin xyz="0.0 0.0 0.0" rpy="0.0 0.0 0.0"/>
         <mass value="0.001"/>
         <inertia ixx="4e-10" iyy="4e-10" izz="3e-10" ixy="0" ixz="0" iyz="0"/>
      </inertial>
   </link>
   <link name="middle_mp2dp_virt_jointbody">
      <inertial>
         <origin xyz="0.0 0.0 0.0" rpy="0.0 0.0 0.0"/>
         <mass value="0.001"/>
         <inertia ixx="1e-09" iyy="1e-09" izz="1e-09" ixy="0" ixz="0" iyz="0"/>
      </inertial>
   </link>
   <joint type="revolute" name="middle_mp2dp_virt">
      <parent link="middle_mp_link"/>
      <child link="middle_mp2dp_virt_jointbody"/>
      <origin xyz="0.023 0.0 -0.0008" rpy="0.0 0.0 0.0"/>
      <axis xyz="0.0 -1.0 0.0"/>
      <limit lower="-3.14" upper="3.14" effort="100" velocity="100"/>
   </joint>
   <joint type="fixed" name="middle_mp2dp_virt_offset">
      <parent link="middle_mp2dp_virt_jointbody"/>
      <child link="middle_dp_adapter_virt"/>
      <origin xyz="-0.023 -0.0 0.0008" rpy="0.0 0.0 0.0"/>
   </joint>
   <link name="middle_dp_adapter">
      <inertial>
         <origin xyz="0.005351633379461637 5.496078872092513e-06 0.00015893796923586228" rpy="1.5736715159439456 -1.2942765355492698 -0.004465164146717049"/>
         <mass value="0.0006939412579896854"/>
         <inertia ixx="1.5572245841345185e-08" iyy="1.1457796740024819e-08" izz="8.572467342913239e-09" ixy="0" ixz="0" iyz="0"/>
      </inertial>
      <visual name="dp_adapter_mesh">
         <origin xyz="0.005351633379461637 5.496078872092513e-06 0.00015893796923586228" rpy="1.573671515943945 -1.2942765355492696 -0.004465164146716716"/>
         <geometry>
            <mesh filename="package://viz/models/biomimic_hand_v3/mesh/experimental_finger_dp_adapter.stl"/>
         </geometry>
         <material name="white"/>
      </visual>
   </link>
   <link name="middle_mp2dp_jointbody">
      <inertial>
         <origin xyz="0.0 0.0 0.0" rpy="0.0 0.0 0.0"/>
         <mass value="0.001"/>
         <inertia ixx="1e-09" iyy="1e-09" izz="1e-09" ixy="0" ixz="0" iyz="0"/>
      </inertial>
   </link>
   <joint type="revolute" name="middle_mp2dp">
      <parent link="middle_dp_adapter_virt"/>
      <child link="middle_mp2dp_jointbody"/>
      <origin xyz="0.032 0.0 -0.0004" rpy="0.0 0.0 0.0"/>
      <axis xyz="0.0 -1.0 0.0"/>
      <limit lower="-3.14" upper="3.14" effort="100" velocity="100"/>
   </joint>
   <joint type="fixed" name="middle_mp2dp_offset">
      <parent link="middle_mp2dp_jointbody"/>
      <child link="middle_dp_adapter"/>
      <origin xyz="-0.0045 -0.0 -0.0" rpy="0.0 0.0 0.0"/>
   </joint>
   <link name="middle_fingertip">
      <inertial>
         <origin xyz="0.0 0.0 0.01" rpy="0.0 0.0 0.0"/>
         <mass value="0.0"/>
         <inertia ixx="0.0" iyy="0.0" izz="0.0" ixy="0" ixz="0" iyz="0"/>
      </inertial>
   </link>
   <link name="middle_dp_adapter2middle_fingertip_fixed_jointbody">
      <inertial>
         <origin xyz="0.0 0.0 0.0" rpy="0.0 0.0 0.0"/>
         <mass value="0.001"/>
         <inertia ixx="1e-09" iyy="1e-09" izz="1e-09" ixy="0" ixz="0" iyz="0"/>
      </inertial>
   </link>
   <joint type="fixed" name="middle_dp_adapter2middle_fingertip_fixed">
      <parent link="middle_dp_adapter"/>
      <child link="middle_dp_adapter2middle_fingertip_fixed_jointbody"/>
      <origin xyz="0.0 0.0 0.01" rpy="0.0 0.0 0.0"/>
   </joint>
   <joint type="fixed" name="middle_dp_adapter2middle_fingertip_fixed_offset">
      <parent link="middle_dp_adapter2middle_fingertip_fixed_jointbody"/>
      <child link="middle_fingertip"/>
      <origin xyz="-0.0 -0.0 -0.0" rpy="0.0 0.0 0.0"/>
   </joint>
   <link name="ring_base">
      <inertial>
         <origin xyz="-2.483271134301712e-06 -0.0006283949403360648 -0.0010218251722954041" rpy="-0.0019606141972857705 0.2848020899002486 1.562843097727972"/>
         <mass value="0.0024272487650793505"/>
         <inertia ixx="1.0995418991633523e-07" iyy="1.0493548698909454e-07" izz="5.695079330067392e-08" ixy="0" ixz="0" iyz="0"/>
      </inertial>
      <visual name="base">
         <origin xyz="-2.483271134301712e-06 -0.0006283949403360648 -0.0010218251722954041" rpy="-0.0019606141972857705 0.2848020899002486 1.562843097727972"/>
         <geometry>
            <mesh filename="package://viz/models/biomimic_hand_v3/mesh/experimental_finger_base_link.stl"/>
         </geometry>
         <material name="white"/>
      </visual>
   </link>
   <link name="palm2ring_base_fixed_jointbody">
      <inertial>
         <origin xyz="0.0 0.0 0.0" rpy="0.0 0.0 0.0"/>
         <mass value="0.001"/>
         <inertia ixx="1e-09" iyy="1e-09" izz="1e-09" ixy="0" ixz="0" iyz="0"/>
      </inertial>
   </link>
   <joint type="fixed" name="palm2ring_base_fixed">
      <parent link="palm"/>
      <child link="palm2ring_base_fixed_jointbody"/>
      <origin xyz="0.0195 0.121 -0.001" rpy="1.5707999999999998 5.897931032450288e-10 -3.141592653589791"/>
   </joint>
   <joint type="fixed" name="palm2ring_base_fixed_offset">
      <parent link="palm2ring_base_fixed_jointbody"/>
      <child link="ring_base"/>
      <origin xyz="-0.0 -0.0 -0.0" rpy="0.0 0.0 0.0"/>
   </joint>
   <link name="ring_abduct_link_virt">
      <inertial>
         <origin xyz="0.0 0.0 0.0" rpy="0.0 0.0 0.0"/>
         <mass value="0.001"/>
         <inertia ixx="4e-10" iyy="4e-10" izz="3e-10" ixy="0" ixz="0" iyz="0"/>
      </inertial>
   </link>
   <link name="ring_base2adb_virt_jointbody">
      <inertial>
         <origin xyz="0.0 0.0 0.0" rpy="0.0 0.0 0.0"/>
         <mass value="0.001"/>
         <inertia ixx="1e-09" iyy="1e-09" izz="1e-09" ixy="0" ixz="0" iyz="0"/>
      </inertial>
   </link>
   <joint type="revolute" name="ring_base2adb_virt">
      <parent link="ring_base"/>
      <child link="ring_base2adb_virt_jointbody"/>
      <origin xyz="0.0 0.0 0.0" rpy="0.0 0.0 0.0"/>
      <axis xyz="0.0 1.0 0.0"/>
      <limit lower="-3.14" upper="3.14" effort="100" velocity="100"/>
   </joint>
   <joint type="fixed" name="ring_base2adb_virt_offset">
      <parent link="ring_base2adb_virt_jointbody"/>
      <child link="ring_abduct_link_virt"/>
      <origin xyz="-0.0 -0.0 -0.0" rpy="0.0 0.0 0.0"/>
   </joint>
   <link name="ring_abduct_link">
      <inertial>
         <origin xyz="0.0030928024469548897 2.9633251576924873e-06 0.002049002293166934" rpy="0.0013444771177570697 -0.39052181680792253 -0.0006183615336743567"/>
         <mass value="0.0013669173022782843"/>
         <inertia ixx="3.537790755823662e-08" iyy="2.974765209083845e-08" izz="2.786437561868119e-08" ixy="0" ixz="0" iyz="0"/>
      </inertial>
      <visual name="abduct_mesh">
         <origin xyz="0.0030928024469548897 2.9633251576924873e-06 0.002049002293166934" rpy="0.0013444771177570697 -0.39052181680792253 -0.0006183615336743567"/>
         <geometry>
            <mesh filename="package://viz/models/biomimic_hand_v3/mesh/experimental_finger_link_2.stl"/>
         </geometry>
         <material name="white"/>
      </visual>
   </link>
   <link name="ring_base2adb_jointbody">
      <inertial>
         <origin xyz="0.0 0.0 0.0" rpy="0.0 0.0 0.0"/>
         <mass value="0.001"/>
         <inertia ixx="1e-09" iyy="1e-09" izz="1e-09" ixy="0" ixz="0" iyz="0"/>
      </inertial>
   </link>
   <joint type="revolute" name="ring_base2adb">
      <parent link="ring_abduct_link_virt"/>
      <child link="ring_base2adb_jointbody"/>
      <origin xyz="0.0 0.002498 0.011162" rpy="1.5707963267948966 -1.5707963267948966 0.0"/>
      <axis xyz="0.0 0.0 -1.0"/>
      <limit lower="-3.14" upper="3.14" effort="100" velocity="100"/>
   </joint>
   <joint type="fixed" name="ring_base2adb_offset">
      <parent link="ring_base2adb_jointbody"/>
      <child link="ring_abduct_link"/>
      <origin xyz="-0.0 -0.0 -0.0" rpy="0.0 0.0 0.0"/>
   </joint>
   <link name="ring_pp_link_virt">
      <inertial>
         <origin xyz="0.0 0.0 0.0" rpy="0.0 0.0 0.0"/>
         <mass value="0.001"/>
         <inertia ixx="4e-10" iyy="4e-10" izz="3e-10" ixy="0" ixz="0" iyz="0"/>
      </inertial>
   </link>
   <link name="ring_adb2pp_virt_jointbody">
      <inertial>
         <origin xyz="0.0 0.0 0.0" rpy="0.0 0.0 0.0"/>
         <mass value="0.001"/>
         <inertia ixx="1e-09" iyy="1e-09" izz="1e-09" ixy="0" ixz="0" iyz="0"/>
      </inertial>
   </link>
   <joint type="revolute" name="ring_adb2pp_virt">
      <parent link="ring_abduct_link"/>
      <child link="ring_adb2pp_virt_jointbody"/>
      <origin xyz="0.0 0.0 0.0" rpy="0.0 0.0 0.0"/>
      <axis xyz="0.0 -1.0 0.0"/>
      <limit lower="-3.14" upper="3.14" effort="100" velocity="100"/>
   </joint>
   <joint type="fixed" name="ring_adb2pp_virt_offset">
      <parent link="ring_adb2pp_virt_jointbody"/>
      <child link="ring_pp_link_virt"/>
      <origin xyz="-0.0 -0.0 -0.0" rpy="0.0 0.0 0.0"/>
   </joint>
   <link name="ring_pp_link">
      <inertial>
         <origin xyz="0.019800803261190037 3.0271736921860792e-05 0.0013379390944332293" rpy="2.931599678921431 -1.5138014223874179 0.21266149093854647"/>
         <mass value="0.0050068184060231636"/>
         <inertia ixx="6.345658861803472e-07" iyy="6.154227946796361e-07" izz="1.1409550443849059e-07" ixy="0" ixz="0" iyz="0"/>
      </inertial>
      <visual name="pp_mesh">
         <origin xyz="0.019800803261190037 3.0271736921860792e-05 0.0013379390944332293" rpy="2.9315996789214296 -1.513801422387418 0.21266149093854758"/>
         <geometry>
            <mesh filename="package://viz/models/biomimic_hand_v3/mesh/experimental_finger_pp_link.stl"/>
         </geometry>
         <material name="white"/>
      </visual>
   </link>
   <link name="ring_adb2pp_jointbody">
      <inertial>
         <origin xyz="0.0 0.0 0.0" rpy="0.0 0.0 0.0"/>
         <mass value="0.001"/>
         <inertia ixx="1e-09" iyy="1e-09" izz="1e-09" ixy="0" ixz="0" iyz="0"/>
      </inertial>
   </link>
   <joint type="revolute" name="ring_adb2pp">
      <parent link="ring_pp_link_virt"/>
      <child link="ring_adb2pp_jointbody"/>
      <origin xyz="0.017987999999999997 0.0 0.0" rpy="0.0 0.0 0.0"/>
      <axis xyz="0.0 -1.0 0.0"/>
      <limit lower="-3.14" upper="3.14" effort="100" velocity="100"/>
   </joint>
   <joint type="fixed" name="ring_adb2pp_offset">
      <parent link="ring_adb2pp_jointbody"/>
      <child link="ring_pp_link"/>
      <origin xyz="-0.009 -0.0 -0.0" rpy="0.0 0.0 0.0"/>
   </joint>
   <link name="ring_mp_link_virt">
      <inertial>
         <origin xyz="0.0 0.0 0.0" rpy="0.0 0.0 0.0"/>
         <mass value="0.001"/>
         <inertia ixx="4e-10" iyy="4e-10" izz="3e-10" ixy="0" ixz="0" iyz="0"/>
      </inertial>
   </link>
   <link name="ring_pp2mp_virt_jointbody">
      <inertial>
         <origin xyz="0.0 0.0 0.0" rpy="0.0 0.0 0.0"/>
         <mass value="0.001"/>
         <inertia ixx="1e-09" iyy="1e-09" izz="1e-09" ixy="0" ixz="0" iyz="0"/>
      </inertial>
   </link>
   <joint type="revolute" name="ring_pp2mp_virt">
      <parent link="ring_pp_link"/>
      <child link="ring_pp2mp_virt_jointbody"/>
      <origin xyz="0.035 0.0 -0.0016" rpy="0.0 0.0 0.0"/>
      <axis xyz="0.0 -1.0 0.0"/>
      <limit lower="-3.14" upper="3.14" effort="100" velocity="100"/>
   </joint>
   <joint type="fixed" name="ring_pp2mp_virt_offset">
      <parent link="ring_pp2mp_virt_jointbody"/>
      <child link="ring_mp_link_virt"/>
      <origin xyz="-0.035 -0.0 0.0016" rpy="0.0 0.0 0.0"/>
   </joint>
   <link name="ring_mp_link">
      <inertial>
         <origin xyz="0.013539877442174646 6.836820127480553e-06 0.00034399519877882553" rpy="-3.0138281282533645 -1.544321997651543 -0.12981250347759032"/>
         <mass value="0.0023988918533060766"/>
         <inertia ixx="1.5737888843947075e-07" iyy="1.3688213582052e-07" izz="4.535302154977501e-08" ixy="0" ixz="0" iyz="0"/>
      </inertial>
      <visual name="mp_mesh">
         <origin xyz="0.013539877442174646 6.836820127480553e-06 0.00034399519877882553" rpy="-3.0138281282533645 -1.544321997651543 -0.12981250347759032"/>
         <geometry>
            <mesh filename="package://viz/models/biomimic_hand_v3/mesh/experimental_finger_mp_link.stl"/>
         </geometry>
         <material name="white"/>
      </visual>
   </link>
   <link name="ring_pp2mp_jointbody">
      <inertial>
         <origin xyz="0.0 0.0 0.0" rpy="0.0 0.0 0.0"/>
         <mass value="0.001"/>
         <inertia ixx="1e-09" iyy="1e-09" izz="1e-09" ixy="0" ixz="0" iyz="0"/>
      </inertial>
   </link>
   <joint type="revolute" name="ring_pp2mp">
      <parent link="ring_mp_link_virt"/>
      <child link="ring_pp2mp_jointbody"/>
      <origin xyz="0.047 0.0 -0.0004" rpy="0.0 0.0 0.0"/>
      <axis xyz="0.0 -1.0 0.0"/>
      <limit lower="-3.14" upper="3.14" effort="100" velocity="100"/>
   </joint>
   <joint type="fixed" name="ring_pp2mp_offset">
      <parent link="ring_pp2mp_jointbody"/>
      <child link="ring_mp_link"/>
      <origin xyz="-0.006 -0.0 -0.0" rpy="0.0 0.0 0.0"/>
   </joint>
   <link name="ring_dp_adapter_virt">
      <inertial>
         <origin xyz="0.0 0.0 0.0" rpy="0.0 0.0 0.0"/>
         <mass value="0.001"/>
         <inertia ixx="4e-10" iyy="4e-10" izz="3e-10" ixy="0" ixz="0" iyz="0"/>
      </inertial>
   </link>
   <link name="ring_mp2dp_virt_jointbody">
      <inertial>
         <origin xyz="0.0 0.0 0.0" rpy="0.0 0.0 0.0"/>
         <mass value="0.001"/>
         <inertia ixx="1e-09" iyy="1e-09" izz="1e-09" ixy="0" ixz="0" iyz="0"/>
      </inertial>
   </link>
   <joint type="revolute" name="ring_mp2dp_virt">
      <parent link="ring_mp_link"/>
      <child link="ring_mp2dp_virt_jointbody"/>
      <origin xyz="0.023 0.0 -0.0008" rpy="0.0 0.0 0.0"/>
      <axis xyz="0.0 -1.0 0.0"/>
      <limit lower="-3.14" upper="3.14" effort="100" velocity="100"/>
   </joint>
   <joint type="fixed" name="ring_mp2dp_virt_offset">
      <parent link="ring_mp2dp_virt_jointbody"/>
      <child link="ring_dp_adapter_virt"/>
      <origin xyz="-0.023 -0.0 0.0008" rpy="0.0 0.0 0.0"/>
   </joint>
   <link name="ring_dp_adapter">
      <inertial>
         <origin xyz="0.005351633379461637 5.496078872092513e-06 0.00015893796923586228" rpy="1.5736715159439456 -1.2942765355492698 -0.004465164146717049"/>
         <mass value="0.0006939412579896854"/>
         <inertia ixx="1.5572245841345185e-08" iyy="1.1457796740024819e-08" izz="8.572467342913239e-09" ixy="0" ixz="0" iyz="0"/>
      </inertial>
      <visual name="dp_adapter_mesh">
         <origin xyz="0.005351633379461637 5.496078872092513e-06 0.00015893796923586228" rpy="1.573671515943945 -1.2942765355492696 -0.004465164146716716"/>
         <geometry>
            <mesh filename="package://viz/models/biomimic_hand_v3/mesh/experimental_finger_dp_adapter.stl"/>
         </geometry>
         <material name="white"/>
      </visual>
   </link>
   <link name="ring_mp2dp_jointbody">
      <inertial>
         <origin xyz="0.0 0.0 0.0" rpy="0.0 0.0 0.0"/>
         <mass value="0.001"/>
         <inertia ixx="1e-09" iyy="1e-09" izz="1e-09" ixy="0" ixz="0" iyz="0"/>
      </inertial>
   </link>
   <joint type="revolute" name="ring_mp2dp">
      <parent link="ring_dp_adapter_virt"/>
      <child link="ring_mp2dp_jointbody"/>
      <origin xyz="0.032 0.0 -0.0004" rpy="0.0 0.0 0.0"/>
      <axis xyz="0.0 -1.0 0.0"/>
      <limit lower="-3.14" upper="3.14" effort="100" velocity="100"/>
   </joint>
   <joint type="fixed" name="ring_mp2dp_offset">
      <parent link="ring_mp2dp_jointbody"/>
      <child link="ring_dp_adapter"/>
      <origin xyz="-0.0045 -0.0 -0.0" rpy="0.0 0.0 0.0"/>
   </joint>
   <link name="ring_fingertip">
      <inertial>
         <origin xyz="0.0 0.0 0.01" rpy="0.0 0.0 0.0"/>
         <mass value="0.0"/>
         <inertia ixx="0.0" iyy="0.0" izz="0.0" ixy="0" ixz="0" iyz="0"/>
      </inertial>
   </link>
   <link name="ring_dp_adapter2ring_fingertip_fixed_jointbody">
      <inertial>
         <origin xyz="0.0 0.0 0.0" rpy="0.0 0.0 0.0"/>
         <mass value="0.001"/>
         <inertia ixx="1e-09" iyy="1e-09" izz="1e-09" ixy="0" ixz="0" iyz="0"/>
      </inertial>
   </link>
   <joint type="fixed" name="ring_dp_adapter2ring_fingertip_fixed">
      <parent link="ring_dp_adapter"/>
      <child link="ring_dp_adapter2ring_fingertip_fixed_jointbody"/>
      <origin xyz="0.0 0.0 0.01" rpy="0.0 0.0 0.0"/>
   </joint>
   <joint type="fixed" name="ring_dp_adapter2ring_fingertip_fixed_offset">
      <parent link="ring_dp_adapter2ring_fingertip_fixed_jointbody"/>
      <child link="ring_fingertip"/>
      <origin xyz="-0.0 -0.0 -0.0" rpy="0.0 0.0 0.0"/>
   </joint>
   <link name="pinky_base">
      <inertial>
         <origin xyz="-2.483271134301712e-06 -0.0006283949403360648 -0.0010218251722954041" rpy="-0.0019606141972857705 0.2848020899002486 1.562843097727972"/>
         <mass value="0.0024272487650793505"/>
         <inertia ixx="1.0995418991633523e-07" iyy="1.0493548698909454e-07" izz="5.695079330067392e-08" ixy="0" ixz="0" iyz="0"/>
      </inertial>
      <visual name="base">
         <origin xyz="-2.483271134301712e-06 -0.0006283949403360648 -0.0010218251722954041" rpy="-0.0019606141972857705 0.2848020899002486 1.562843097727972"/>
         <geometry>
            <mesh filename="package://viz/models/biomimic_hand_v3/mesh/experimental_finger_base_link.stl"/>
         </geometry>
         <material name="white"/>
      </visual>
   </link>
   <link name="palm2pinky_base_fixed_jointbody">
      <inertial>
         <origin xyz="0.0 0.0 0.0" rpy="0.0 0.0 0.0"/>
         <mass value="0.001"/>
         <inertia ixx="1e-09" iyy="1e-09" izz="1e-09" ixy="0" ixz="0" iyz="0"/>
      </inertial>
   </link>
   <joint type="fixed" name="palm2pinky_base_fixed">
      <parent link="palm"/>
      <child link="palm2pinky_base_fixed_jointbody"/>
      <origin xyz="0.039518 0.10012 -0.001392" rpy="1.7817399185292198 0.05609004491147984 2.8855321460958834"/>
   </joint>
   <joint type="fixed" name="palm2pinky_base_fixed_offset">
      <parent link="palm2pinky_base_fixed_jointbody"/>
      <child link="pinky_base"/>
      <origin xyz="-0.0 -0.0 -0.0" rpy="0.0 0.0 0.0"/>
   </joint>
   <link name="pinky_abduct_link_virt">
      <inertial>
         <origin xyz="0.0 0.0 0.0" rpy="0.0 0.0 0.0"/>
         <mass value="0.001"/>
         <inertia ixx="4e-10" iyy="4e-10" izz="3e-10" ixy="0" ixz="0" iyz="0"/>
      </inertial>
   </link>
   <link name="pinky_base2adb_virt_jointbody">
      <inertial>
         <origin xyz="0.0 0.0 0.0" rpy="0.0 0.0 0.0"/>
         <mass value="0.001"/>
         <inertia ixx="1e-09" iyy="1e-09" izz="1e-09" ixy="0" ixz="0" iyz="0"/>
      </inertial>
   </link>
   <joint type="revolute" name="pinky_base2adb_virt">
      <parent link="pinky_base"/>
      <child link="pinky_base2adb_virt_jointbody"/>
      <origin xyz="0.0 0.0 0.0" rpy="0.0 0.0 0.0"/>
      <axis xyz="0.0 1.0 0.0"/>
      <limit lower="-3.14" upper="3.14" effort="100" velocity="100"/>
   </joint>
   <joint type="fixed" name="pinky_base2adb_virt_offset">
      <parent link="pinky_base2adb_virt_jointbody"/>
      <child link="pinky_abduct_link_virt"/>
      <origin xyz="-0.0 -0.0 -0.0" rpy="0.0 0.0 0.0"/>
   </joint>
   <link name="pinky_abduct_link">
      <inertial>
         <origin xyz="0.0030928024469548897 2.9633251576924873e-06 0.002049002293166934" rpy="0.0013444771177570697 -0.39052181680792253 -0.0006183615336743567"/>
         <mass value="0.0013669173022782843"/>
         <inertia ixx="3.537790755823662e-08" iyy="2.974765209083845e-08" izz="2.786437561868119e-08" ixy="0" ixz="0" iyz="0"/>
      </inertial>
      <visual name="abduct_mesh">
         <origin xyz="0.0030928024469548897 2.9633251576924873e-06 0.002049002293166934" rpy="0.0013444771177570697 -0.39052181680792253 -0.0006183615336743567"/>
         <geometry>
            <mesh filename="package://viz/models/biomimic_hand_v3/mesh/experimental_finger_link_2.stl"/>
         </geometry>
         <material name="white"/>
      </visual>
   </link>
   <link name="pinky_base2adb_jointbody">
      <inertial>
         <origin xyz="0.0 0.0 0.0" rpy="0.0 0.0 0.0"/>
         <mass value="0.001"/>
         <inertia ixx="1e-09" iyy="1e-09" izz="1e-09" ixy="0" ixz="0" iyz="0"/>
      </inertial>
   </link>
   <joint type="revolute" name="pinky_base2adb">
      <parent link="pinky_abduct_link_virt"/>
      <child link="pinky_base2adb_jointbody"/>
      <origin xyz="0.0 0.002498 0.011162" rpy="1.5707963267948966 -1.5707963267948966 0.0"/>
      <axis xyz="0.0 0.0 -1.0"/>
      <limit lower="-3.14" upper="3.14" effort="100" velocity="100"/>
   </joint>
   <joint type="fixed" name="pinky_base2adb_offset">
      <parent link="pinky_base2adb_jointbody"/>
      <child link="pinky_abduct_link"/>
      <origin xyz="-0.0 -0.0 -0.0" rpy="0.0 0.0 0.0"/>
   </joint>
   <link name="pinky_pp_link_virt">
      <inertial>
         <origin xyz="0.0 0.0 0.0" rpy="0.0 0.0 0.0"/>
         <mass value="0.001"/>
         <inertia ixx="4e-10" iyy="4e-10" izz="3e-10" ixy="0" ixz="0" iyz="0"/>
      </inertial>
   </link>
   <link name="pinky_adb2pp_virt_jointbody">
      <inertial>
         <origin xyz="0.0 0.0 0.0" rpy="0.0 0.0 0.0"/>
         <mass value="0.001"/>
         <inertia ixx="1e-09" iyy="1e-09" izz="1e-09" ixy="0" ixz="0" iyz="0"/>
      </inertial>
   </link>
   <joint type="revolute" name="pinky_adb2pp_virt">
      <parent link="pinky_abduct_link"/>
      <child link="pinky_adb2pp_virt_jointbody"/>
      <origin xyz="0.0 0.0 0.0" rpy="0.0 0.0 0.0"/>
      <axis xyz="0.0 -1.0 0.0"/>
      <limit lower="-3.14" upper="3.14" effort="100" velocity="100"/>
   </joint>
   <joint type="fixed" name="pinky_adb2pp_virt_offset">
      <parent link="pinky_adb2pp_virt_jointbody"/>
      <child link="pinky_pp_link_virt"/>
      <origin xyz="-0.0 -0.0 -0.0" rpy="0.0 0.0 0.0"/>
   </joint>
   <link name="pinky_pp_link">
      <inertial>
         <origin xyz="0.019800803261190037 3.0271736921860792e-05 0.0013379390944332293" rpy="2.931599678921431 -1.5138014223874179 0.21266149093854647"/>
         <mass value="0.0050068184060231636"/>
         <inertia ixx="6.345658861803472e-07" iyy="6.154227946796361e-07" izz="1.1409550443849059e-07" ixy="0" ixz="0" iyz="0"/>
      </inertial>
      <visual name="pp_mesh">
         <origin xyz="0.019800803261190037 3.0271736921860792e-05 0.0013379390944332293" rpy="2.9315996789214296 -1.513801422387418 0.21266149093854758"/>
         <geometry>
            <mesh filename="package://viz/models/biomimic_hand_v3/mesh/experimental_finger_pp_link.stl"/>
         </geometry>
         <material name="white"/>
      </visual>
   </link>
   <link name="pinky_adb2pp_jointbody">
      <inertial>
         <origin xyz="0.0 0.0 0.0" rpy="0.0 0.0 0.0"/>
         <mass value="0.001"/>
         <inertia ixx="1e-09" iyy="1e-09" izz="1e-09" ixy="0" ixz="0" iyz="0"/>
      </inertial>
   </link>
   <joint type="revolute" name="pinky_adb2pp">
      <parent link="pinky_pp_link_virt"/>
      <child link="pinky_adb2pp_jointbody"/>
      <origin xyz="0.017987999999999997 0.0 0.0" rpy="0.0 0.0 0.0"/>
      <axis xyz="0.0 -1.0 0.0"/>
      <limit lower="-3.14" upper="3.14" effort="100" velocity="100"/>
   </joint>
   <joint type="fixed" name="pinky_adb2pp_offset">
      <parent link="pinky_adb2pp_jointbody"/>
      <child link="pinky_pp_link"/>
      <origin xyz="-0.009 -0.0 -0.0" rpy="0.0 0.0 0.0"/>
   </joint>
   <link name="pinky_mp_link_virt">
      <inertial>
         <origin xyz="0.0 0.0 0.0" rpy="0.0 0.0 0.0"/>
         <mass value="0.001"/>
         <inertia ixx="4e-10" iyy="4e-10" izz="3e-10" ixy="0" ixz="0" iyz="0"/>
      </inertial>
   </link>
   <link name="pinky_pp2mp_virt_jointbody">
      <inertial>
         <origin xyz="0.0 0.0 0.0" rpy="0.0 0.0 0.0"/>
         <mass value="0.001"/>
         <inertia ixx="1e-09" iyy="1e-09" izz="1e-09" ixy="0" ixz="0" iyz="0"/>
      </inertial>
   </link>
   <joint type="revolute" name="pinky_pp2mp_virt">
      <parent link="pinky_pp_link"/>
      <child link="pinky_pp2mp_virt_jointbody"/>
      <origin xyz="0.035 0.0 -0.0016" rpy="0.0 0.0 0.0"/>
      <axis xyz="0.0 -1.0 0.0"/>
      <limit lower="-3.14" upper="3.14" effort="100" velocity="100"/>
   </joint>
   <joint type="fixed" name="pinky_pp2mp_virt_offset">
      <parent link="pinky_pp2mp_virt_jointbody"/>
      <child link="pinky_mp_link_virt"/>
      <origin xyz="-0.035 -0.0 0.0016" rpy="0.0 0.0 0.0"/>
   </joint>
   <link name="pinky_mp_link">
      <inertial>
         <origin xyz="0.013539877442174646 6.836820127480553e-06 0.00034399519877882553" rpy="-3.0138281282533645 -1.544321997651543 -0.12981250347759032"/>
         <mass value="0.0023988918533060766"/>
         <inertia ixx="1.5737888843947075e-07" iyy="1.3688213582052e-07" izz="4.535302154977501e-08" ixy="0" ixz="0" iyz="0"/>
      </inertial>
      <visual name="mp_mesh">
         <origin xyz="0.013539877442174646 6.836820127480553e-06 0.00034399519877882553" rpy="-3.0138281282533645 -1.544321997651543 -0.12981250347759032"/>
         <geometry>
            <mesh filename="package://viz/models/biomimic_hand_v3/mesh/experimental_finger_mp_link.stl"/>
         </geometry>
         <material name="white"/>
      </visual>
   </link>
   <link name="pinky_pp2mp_jointbody">
      <inertial>
         <origin xyz="0.0 0.0 0.0" rpy="0.0 0.0 0.0"/>
         <mass value="0.001"/>
         <inertia ixx="1e-09" iyy="1e-09" izz="1e-09" ixy="0" ixz="0" iyz="0"/>
      </inertial>
   </link>
   <joint type="revolute" name="pinky_pp2mp">
      <parent link="pinky_mp_link_virt"/>
      <child link="pinky_pp2mp_jointbody"/>
      <origin xyz="0.047 0.0 -0.0004" rpy="0.0 0.0 0.0"/>
      <axis xyz="0.0 -1.0 0.0"/>
      <limit lower="-3.14" upper="3.14" effort="100" velocity="100"/>
   </joint>
   <joint type="fixed" name="pinky_pp2mp_offset">
      <parent link="pinky_pp2mp_jointbody"/>
      <child link="pinky_mp_link"/>
      <origin xyz="-0.006 -0.0 -0.0" rpy="0.0 0.0 0.0"/>
   </joint>
   <link name="pinky_dp_adapter_virt">
      <inertial>
         <origin xyz="0.0 0.0 0.0" rpy="0.0 0.0 0.0"/>
         <mass value="0.001"/>
         <inertia ixx="4e-10" iyy="4e-10" izz="3e-10" ixy="0" ixz="0" iyz="0"/>
      </inertial>
   </link>
   <link name="pinky_mp2dp_virt_jointbody">
      <inertial>
         <origin xyz="0.0 0.0 0.0" rpy="0.0 0.0 0.0"/>
         <mass value="0.001"/>
         <inertia ixx="1e-09" iyy="1e-09" izz="1e-09" ixy="0" ixz="0" iyz="0"/>
      </inertial>
   </link>
   <joint type="revolute" name="pinky_mp2dp_virt">
      <parent link="pinky_mp_link"/>
      <child link="pinky_mp2dp_virt_jointbody"/>
      <origin xyz="0.023 0.0 -0.0008" rpy="0.0 0.0 0.0"/>
      <axis xyz="0.0 -1.0 0.0"/>
      <limit lower="-3.14" upper="3.14" effort="100" velocity="100"/>
   </joint>
   <joint type="fixed" name="pinky_mp2dp_virt_offset">
      <parent link="pinky_mp2dp_virt_jointbody"/>
      <child link="pinky_dp_adapter_virt"/>
      <origin xyz="-0.023 -0.0 0.0008" rpy="0.0 0.0 0.0"/>
   </joint>
   <link name="pinky_dp_adapter">
      <inertial>
         <origin xyz="0.005351633379461637 5.496078872092513e-06 0.00015893796923586228" rpy="1.5736715159439456 -1.2942765355492698 -0.004465164146717049"/>
         <mass value="0.0006939412579896854"/>
         <inertia ixx="1.5572245841345185e-08" iyy="1.1457796740024819e-08" izz="8.572467342913239e-09" ixy="0" ixz="0" iyz="0"/>
      </inertial>
      <visual name="dp_adapter_mesh">
         <origin xyz="0.005351633379461637 5.496078872092513e-06 0.00015893796923586228" rpy="1.573671515943945 -1.2942765355492696 -0.004465164146716716"/>
         <geometry>
            <mesh filename="package://viz/models/biomimic_hand_v3/mesh/experimental_finger_dp_adapter.stl"/>
         </geometry>
         <material name="white"/>
      </visual>
   </link>
   <link name="pinky_mp2dp_jointbody">
      <inertial>
         <origin xyz="0.0 0.0 0.0" rpy="0.0 0.0 0.0"/>
         <mass value="0.001"/>
         <inertia ixx="1e-09" iyy="1e-09" izz="1e-09" ixy="0" ixz="0" iyz="0"/>
      </inertial>
   </link>
   <joint type="revolute" name="pinky_mp2dp">
      <parent link="pinky_dp_adapter_virt"/>
      <child link="pinky_mp2dp_jointbody"/>
      <origin xyz="0.032 0.0 -0.0004" rpy="0.0 0.0 0.0"/>
      <axis xyz="0.0 -1.0 0.0"/>
      <limit lower="-3.14" upper="3.14" effort="100" velocity="100"/>
   </joint>
   <joint type="fixed" name="pinky_mp2dp_offset">
      <parent link="pinky_mp2dp_jointbody"/>
      <child link="pinky_dp_adapter"/>
      <origin xyz="-0.0045 -0.0 -0.0" rpy="0.0 0.0 0.0"/>
   </joint>
   <link name="pinky_fingertip">
      <inertial>
         <origin xyz="0.0 0.0 0.01" rpy="0.0 0.0 0.0"/>
         <mass value="0.0"/>
         <inertia ixx="0.0" iyy="0.0" izz="0.0" ixy="0" ixz="0" iyz="0"/>
      </inertial>
   </link>
   <link name="pinky_dp_adapter2pinky_fingertip_fixed_jointbody">
      <inertial>
         <origin xyz="0.0 0.0 0.0" rpy="0.0 0.0 0.0"/>
         <mass value="0.001"/>
         <inertia ixx="1e-09" iyy="1e-09" izz="1e-09" ixy="0" ixz="0" iyz="0"/>
      </inertial>
   </link>
   <joint type="fixed" name="pinky_dp_adapter2pinky_fingertip_fixed">
      <parent link="pinky_dp_adapter"/>
      <child link="pinky_dp_adapter2pinky_fingertip_fixed_jointbody"/>
      <origin xyz="0.0 0.0 0.01" rpy="0.0 0.0 0.0"/>
   </joint>
   <joint type="fixed" name="pinky_dp_adapter2pinky_fingertip_fixed_offset">
      <parent link="pinky_dp_adapter2pinky_fingertip_fixed_jointbody"/>
      <child link="pinky_fingertip"/>
      <origin xyz="-0.0 -0.0 -0.0" rpy="0.0 0.0 0.0"/>
   </joint>
   <material name="white">
      <color rgba="1 1 1 1"/>
   </material>
</robot>
